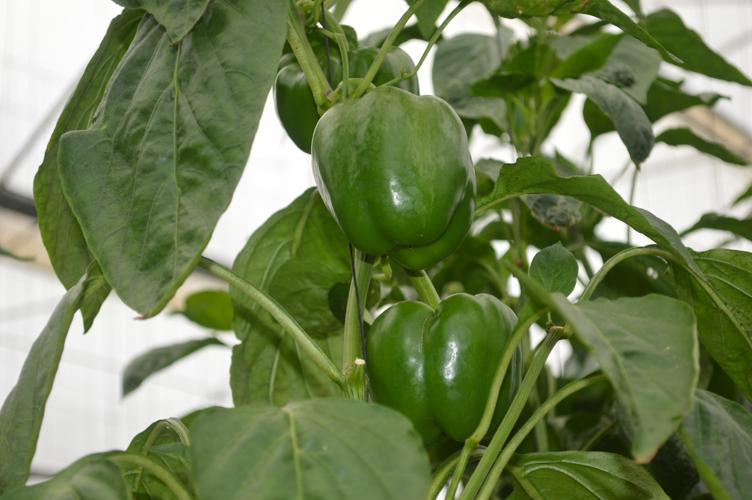BellPepper: (305, 84, 477, 270), (359, 298, 537, 444)
